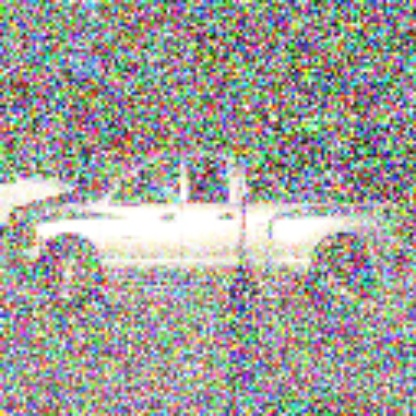Vehicle: (7, 150, 403, 324)
